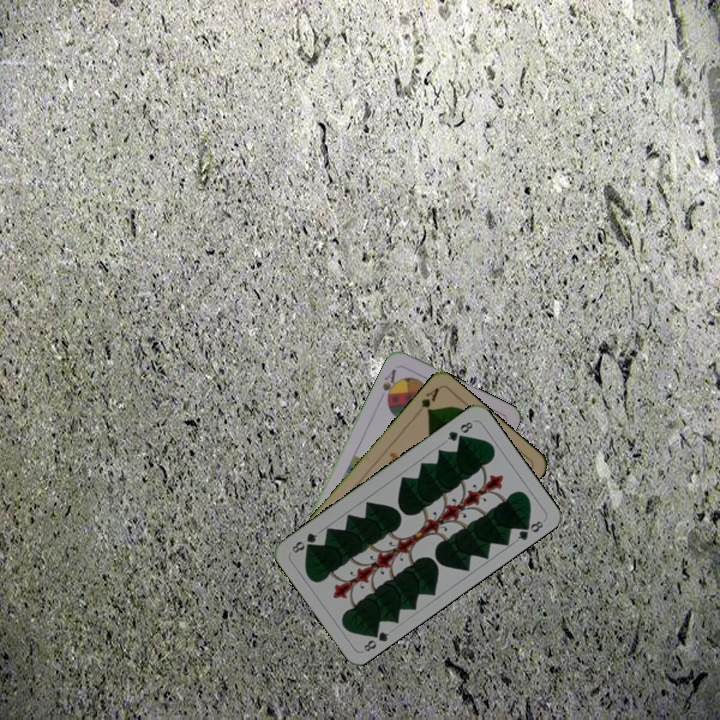G8: (359, 625, 392, 654), (443, 417, 476, 444)
GA: (411, 383, 442, 418)
SA: (378, 365, 401, 404)
